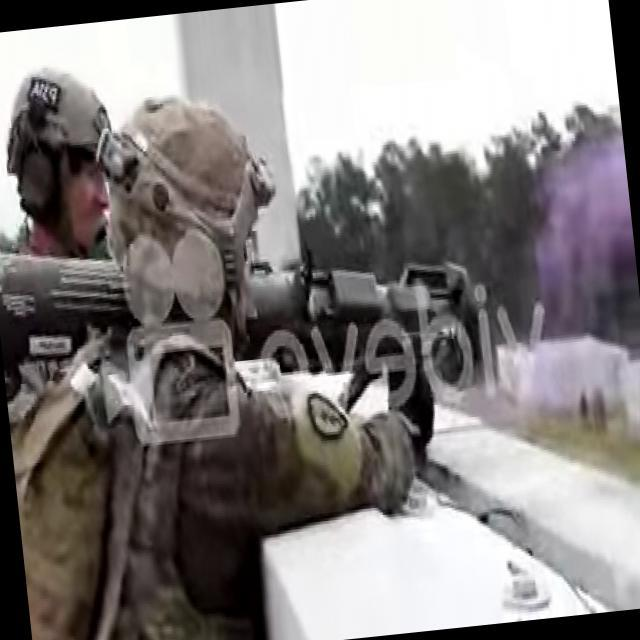rocket: (242, 232, 487, 394)
